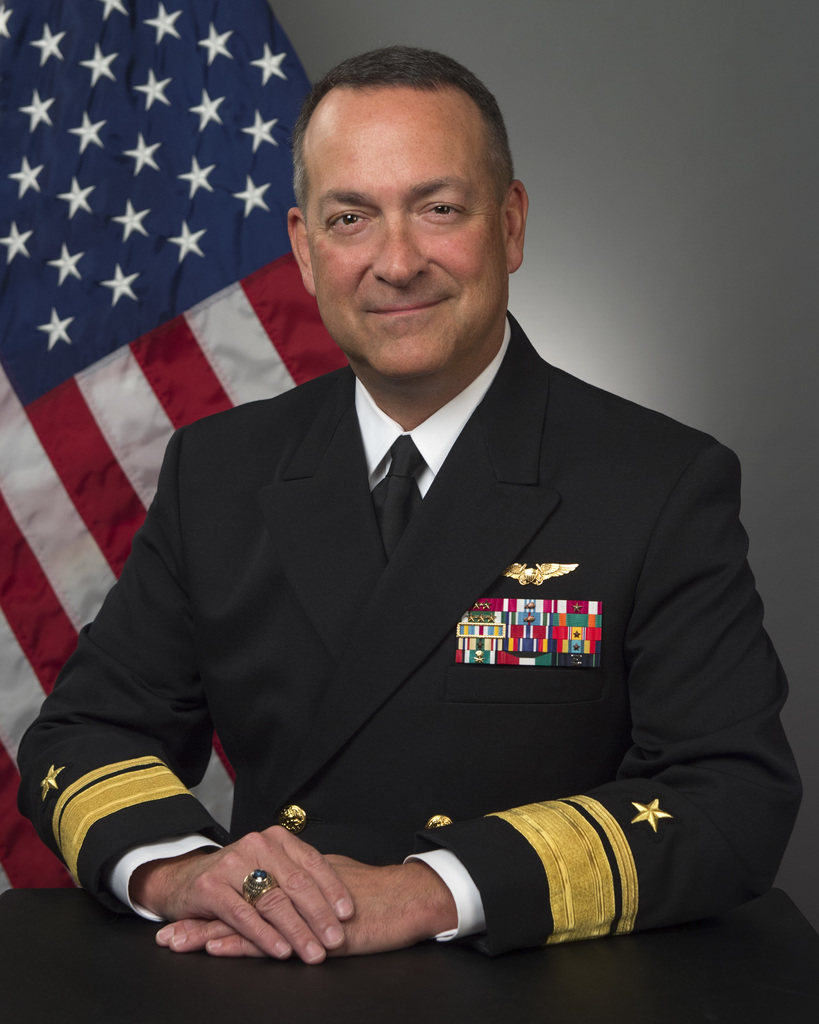Person: (16, 41, 802, 964)
